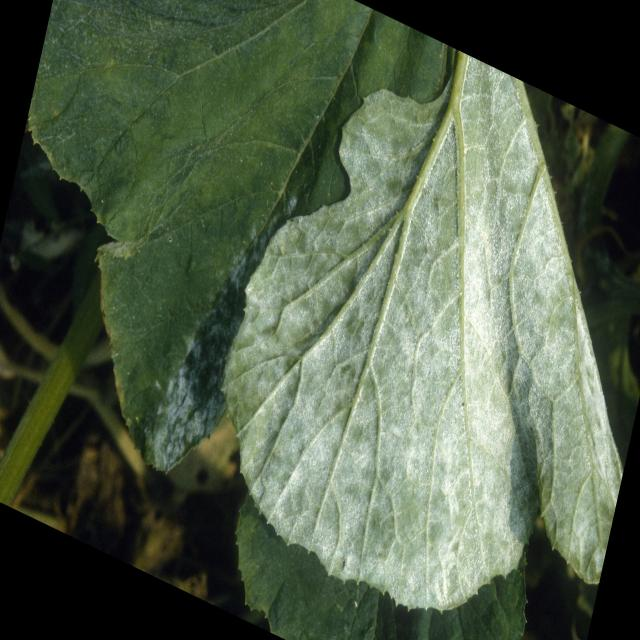Powdery Mildew: (220, 48, 624, 613)
